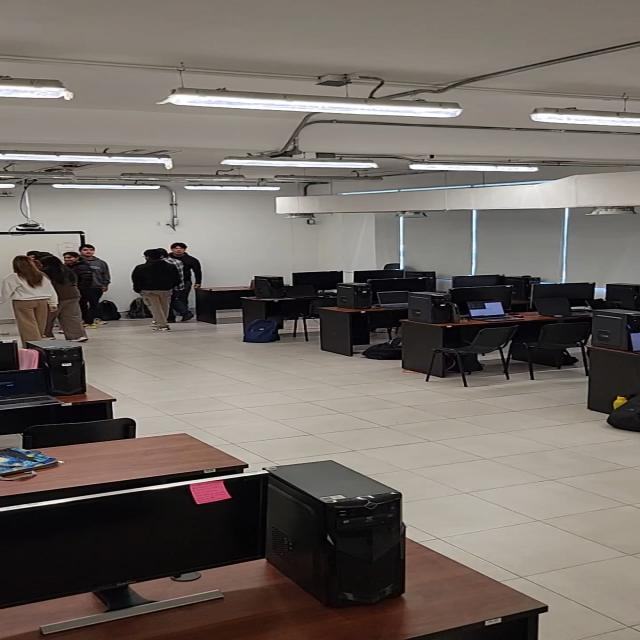Persona: (0, 255, 61, 350), (32, 255, 90, 342), (130, 248, 180, 333), (75, 244, 111, 326), (59, 252, 96, 331), (167, 243, 200, 321)
